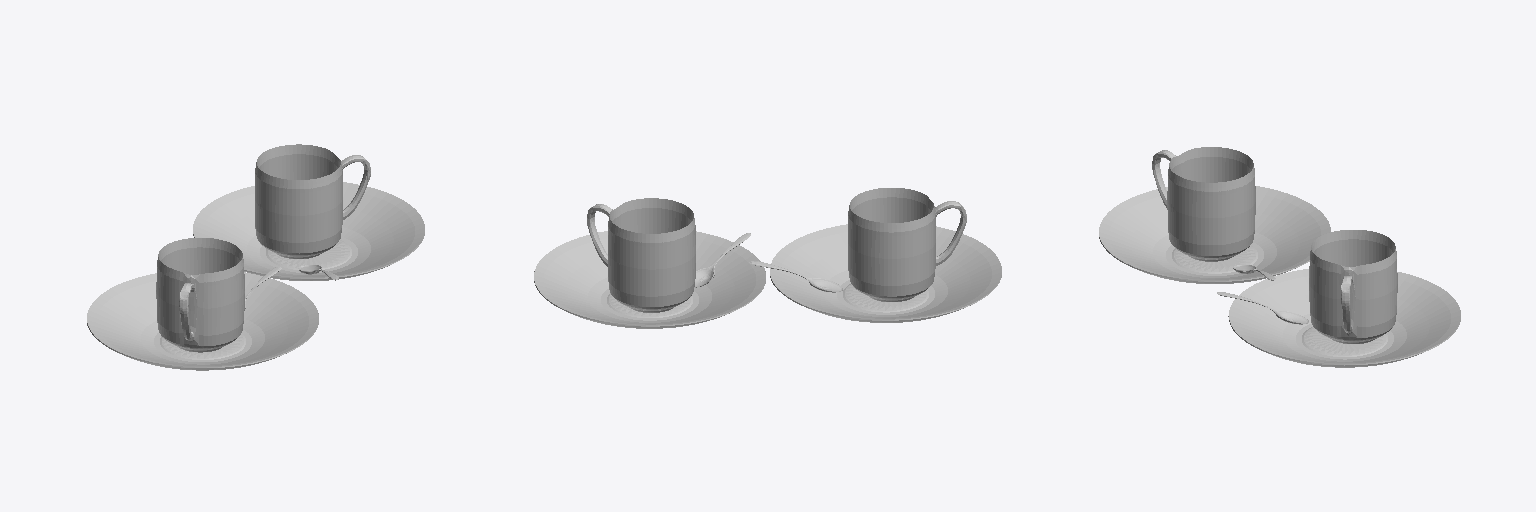
Rendered from Xícaras - Museu.obj.
The picture shows the model from 3 angles: view 1: azimuth 30°, elevation 25°; view 2: azimuth 150°, elevation 25°; view 3: azimuth 270°, elevation 25°; orthographic projection.
Parts seen in each view (by area): view 1: Prato_Cylinder, Prato.001_Cylinder.008, Xícara_Cylinder.002, Xícara.001_Cylinder.001; view 2: Prato_Cylinder, Prato.001_Cylinder.008, Xícara.001_Cylinder.001, Xícara_Cylinder.002, Cylinder_Cylinder.004; view 3: Prato.001_Cylinder.008, Prato_Cylinder, Xícara.001_Cylinder.001, Xícara_Cylinder.002.
Part boxes in pixels (bbox=[...]): Prato_Cylinder: bbox=[87, 272, 318, 370]; Prato.001_Cylinder.008: bbox=[193, 182, 424, 280]; Xícara_Cylinder.002: bbox=[255, 144, 370, 258]; Xícara.001_Cylinder.001: bbox=[156, 238, 244, 352]; Prato_Cylinder: bbox=[770, 224, 1001, 322]; Prato.001_Cylinder.008: bbox=[534, 231, 765, 328]; Xícara.001_Cylinder.001: bbox=[848, 188, 966, 301]; Xícara_Cylinder.002: bbox=[587, 198, 695, 312]; Cylinder_Cylinder.004: bbox=[749, 261, 842, 292]; Prato.001_Cylinder.008: bbox=[1228, 269, 1460, 367]; Prato_Cylinder: bbox=[1099, 186, 1330, 283]; Xícara.001_Cylinder.001: bbox=[1152, 147, 1255, 261]; Xícara_Cylinder.002: bbox=[1309, 230, 1397, 343].
Bounding box in the file's own units: 7.26 × 1.77 × 6.12.